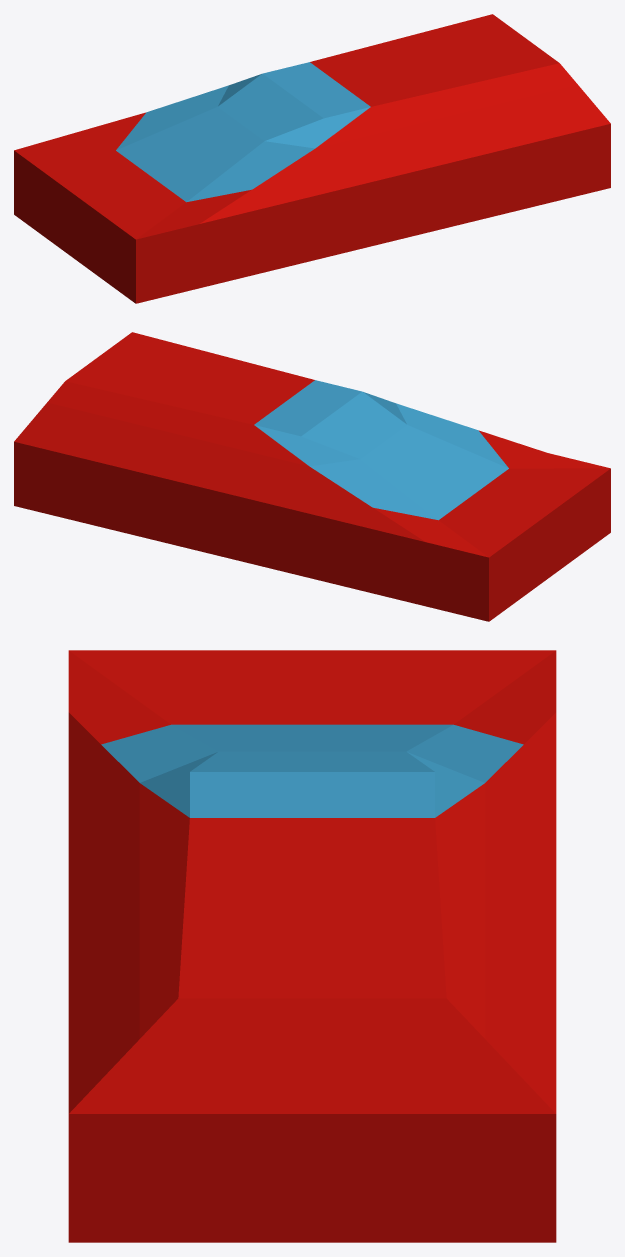
Rendered from vehicle.obj.
3 renders of one model, top to bottom at view 1: azimuth 30°, elevation 25°; view 2: azimuth 150°, elevation 25°; view 3: azimuth 270°, elevation 25°, orthographic. The views are drawn at different scales.
Parts seen in each view (by area): view 1: Cube; view 2: Cube; view 3: Cube.
Part boxes in pixels (box(x1,y1,x2,y2)): Cube: box(14, 14, 610, 303); Cube: box(14, 332, 610, 621); Cube: box(68, 650, 556, 1242).
Bounding box in the file's own units: 0.9 × 0.2 × 0.4.
